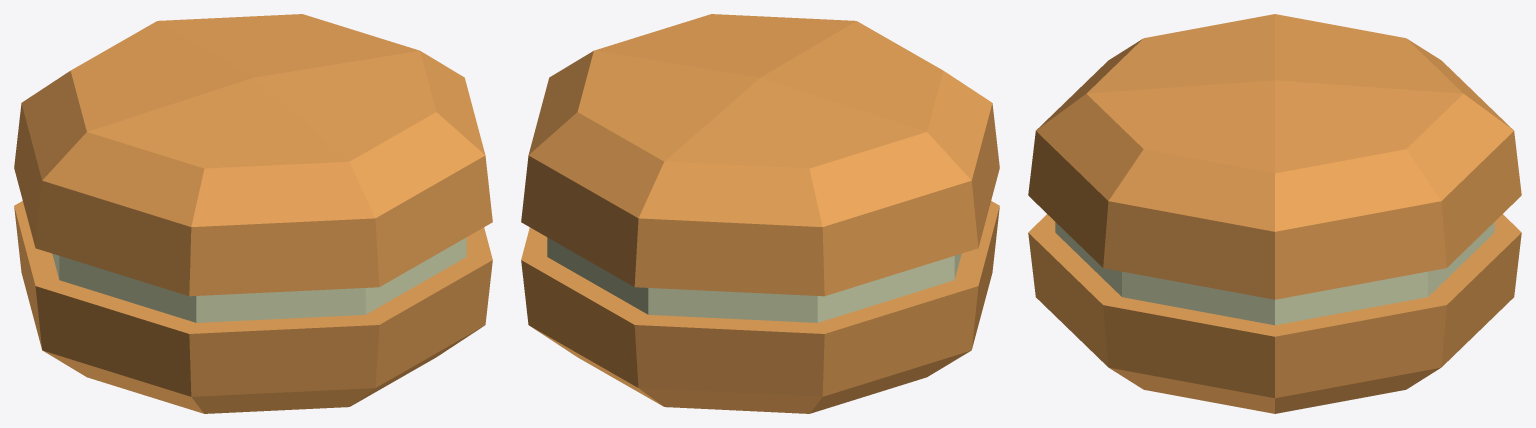
Rendered from macaron_or.fbx.
3 renders of one model, left to right at view 1: azimuth 30°, elevation 25°; view 2: azimuth 150°, elevation 25°; view 3: azimuth 270°, elevation 25°, orthographic.
Parts seen in each view (by area): view 1: macaron_or; view 2: macaron_or; view 3: macaron_or.
Part boxes in pixels (bbox=[...]): macaron_or: bbox=[14, 14, 492, 413]; macaron_or: bbox=[521, 14, 999, 413]; macaron_or: bbox=[1028, 14, 1521, 413].
Size of the model in its own units: 92.32 by 55.18 by 92.32.
